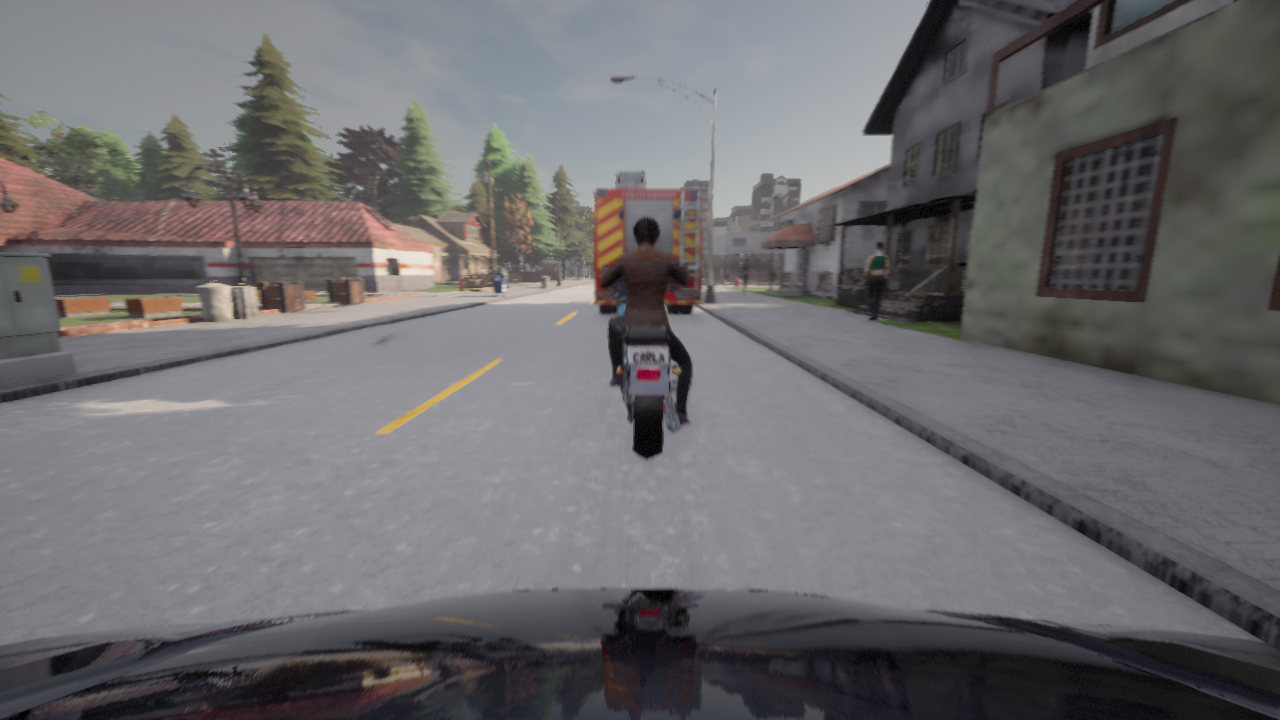cyclist: (0, 588, 1279, 719), (602, 266, 689, 458), (594, 171, 702, 313), (615, 283, 628, 346)
pedestrian: (863, 241, 889, 321), (740, 258, 752, 294)
